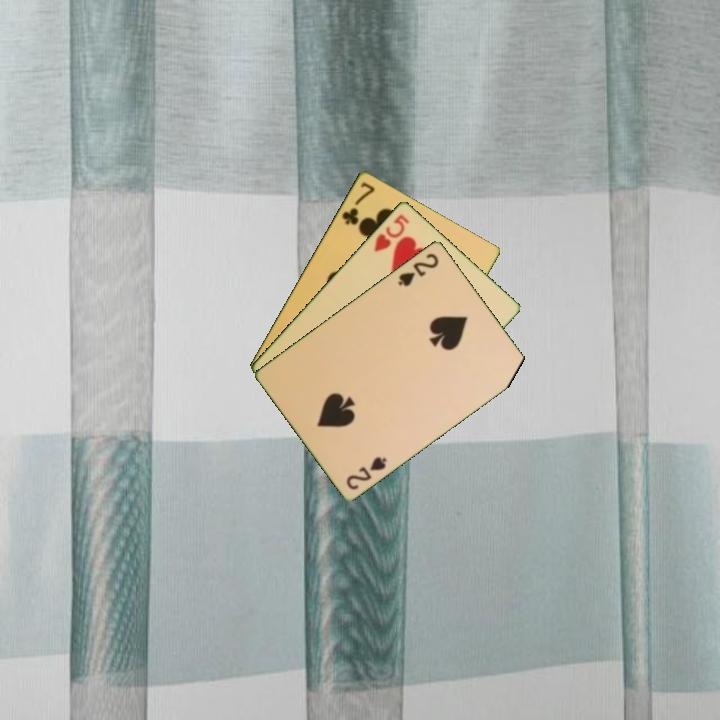2s: (394, 249, 442, 289), (343, 452, 390, 492)
5h: (370, 210, 412, 254)
7c: (338, 178, 377, 228)
